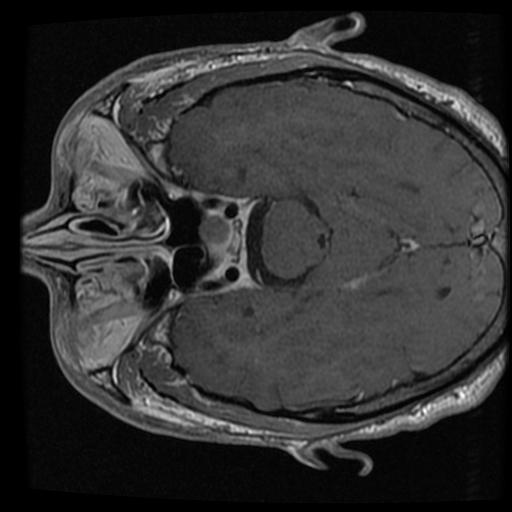pituitary tumour: (199, 213, 232, 255)
